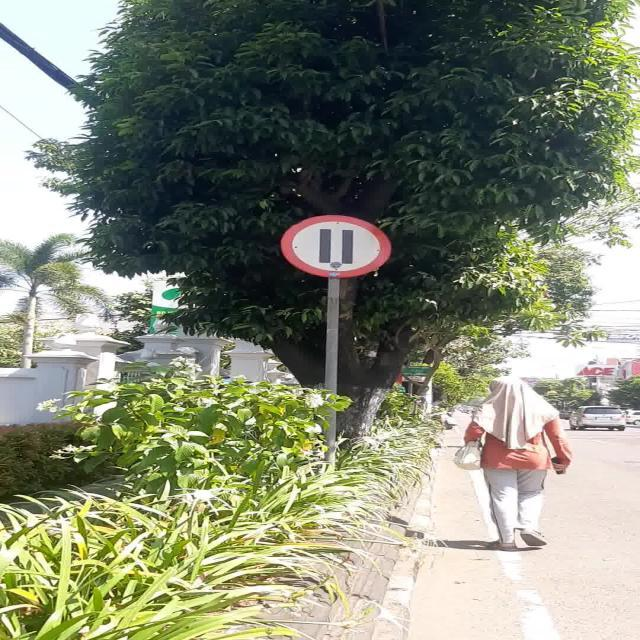Larangan Muatan - 10 ton: (280, 215, 390, 278)
